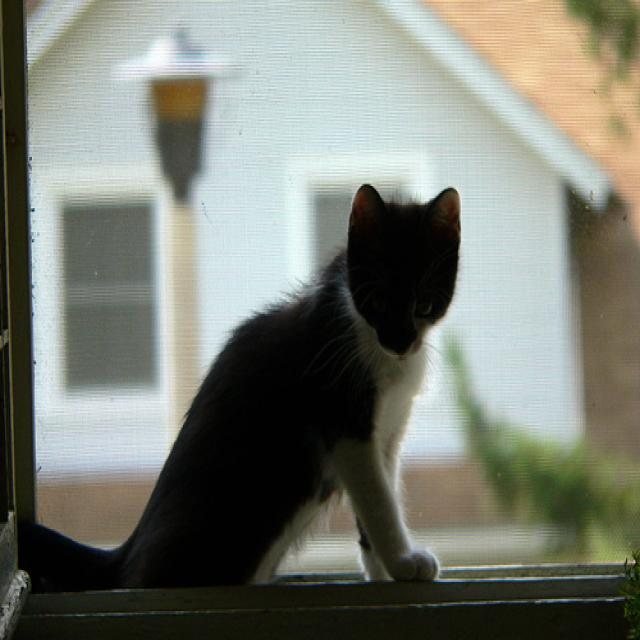cat: (19, 184, 462, 583)
